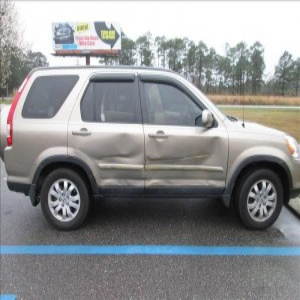door: (93, 140, 219, 187)
